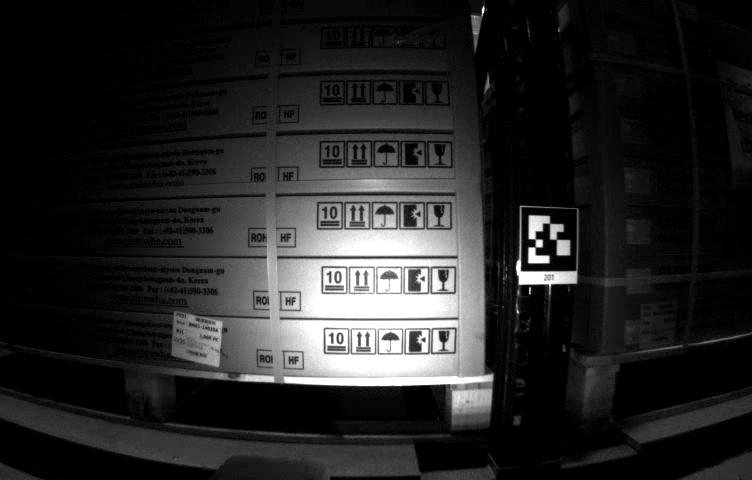True Barcode: (171, 310, 222, 366), (640, 304, 676, 348)
